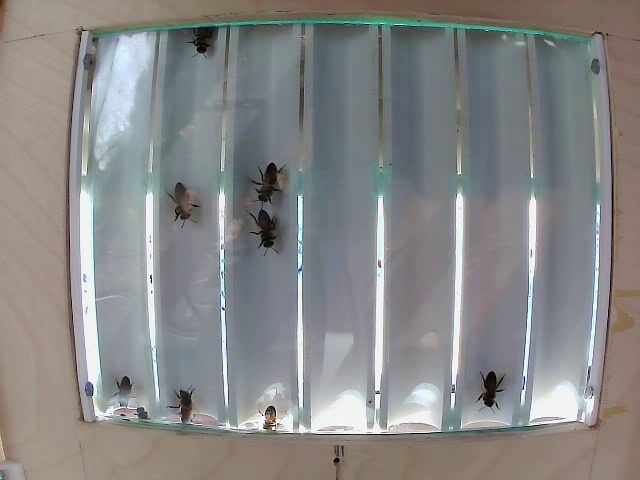bee: (161, 191, 207, 226), (251, 164, 290, 204), (255, 221, 294, 256)
